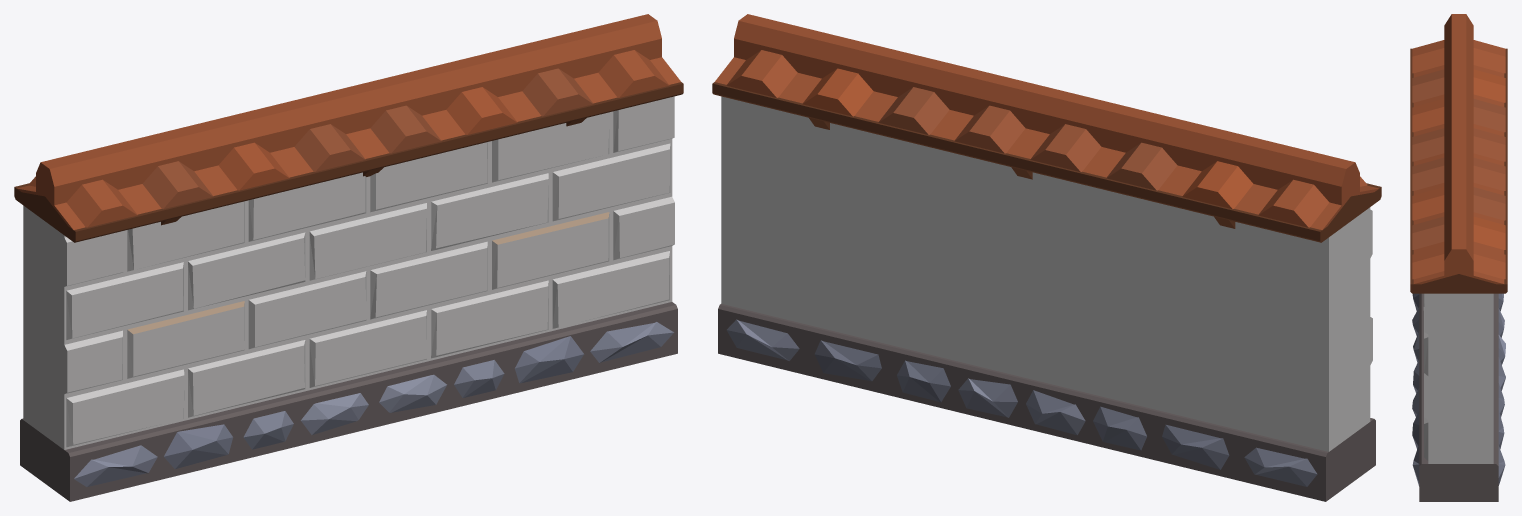
File: adobe-tapia-wall-run-074dd5.glb
3 views of the same model, side by side, from view 1: azimuth 30°, elevation 25°; view 2: azimuth 150°, elevation 25°; view 3: azimuth 270°, elevation 25° (orthographic). The views are drawn at different scales.
Parts seen in each view (by area): view 1: wall-mesh; view 2: wall-mesh; view 3: wall-mesh.
Boxes of the visible parts, bbox=[...] form: wall-mesh: bbox=[14, 14, 683, 501]; wall-mesh: bbox=[712, 14, 1381, 501]; wall-mesh: bbox=[1410, 14, 1507, 501].
Size of the model in its own units: 4 by 2 by 0.7.
